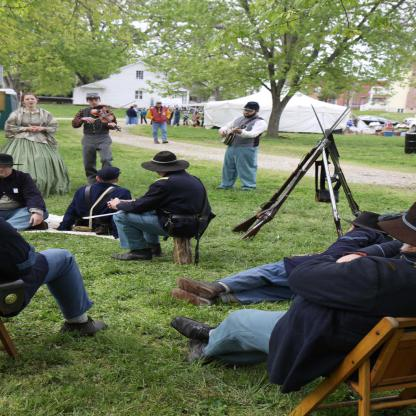face: (1, 163, 13, 179), (25, 95, 38, 107), (89, 98, 101, 108), (244, 109, 257, 118), (157, 104, 162, 108), (134, 106, 137, 108), (143, 109, 145, 111)
